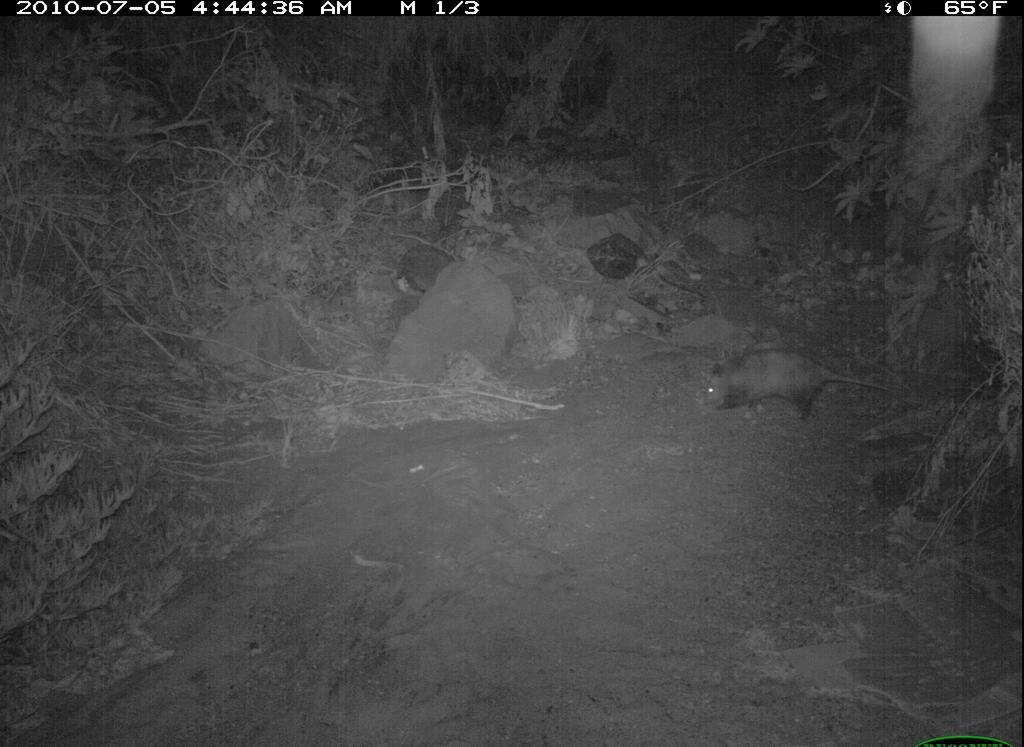opossum: (699, 346, 903, 431)
